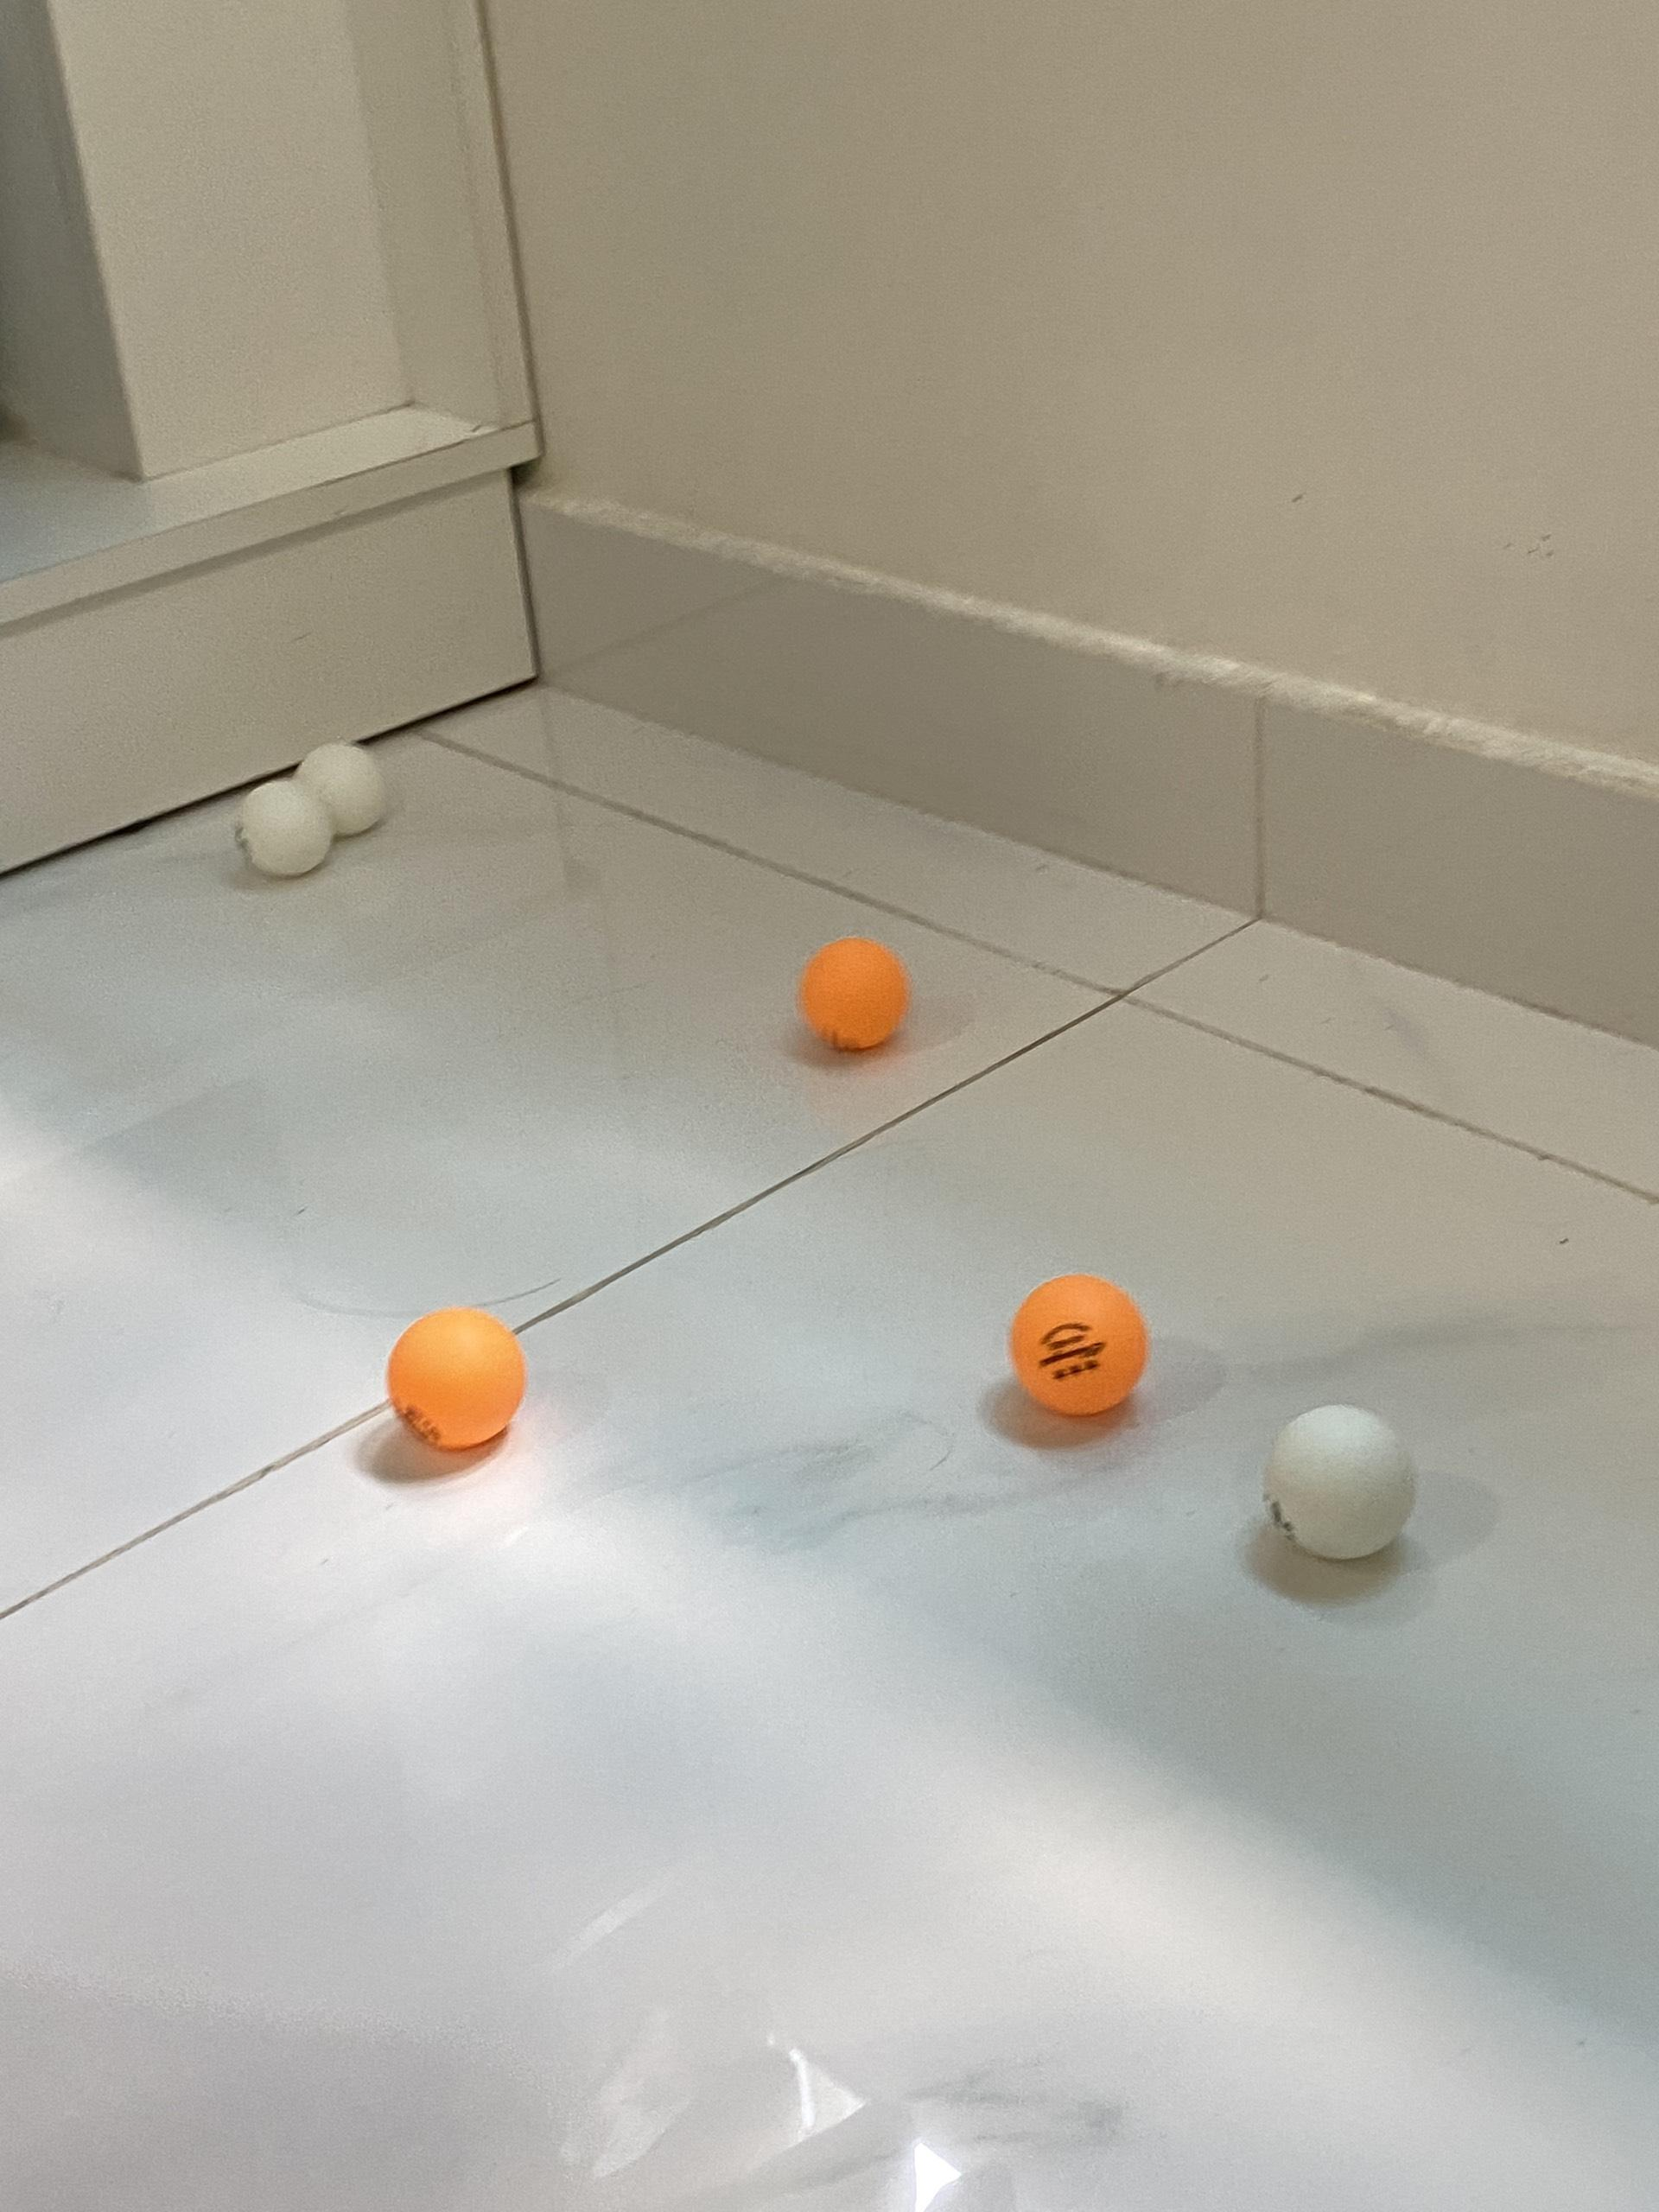oball: (385, 1301, 533, 1451), (1011, 1273, 1155, 1414), (800, 934, 917, 1049)
